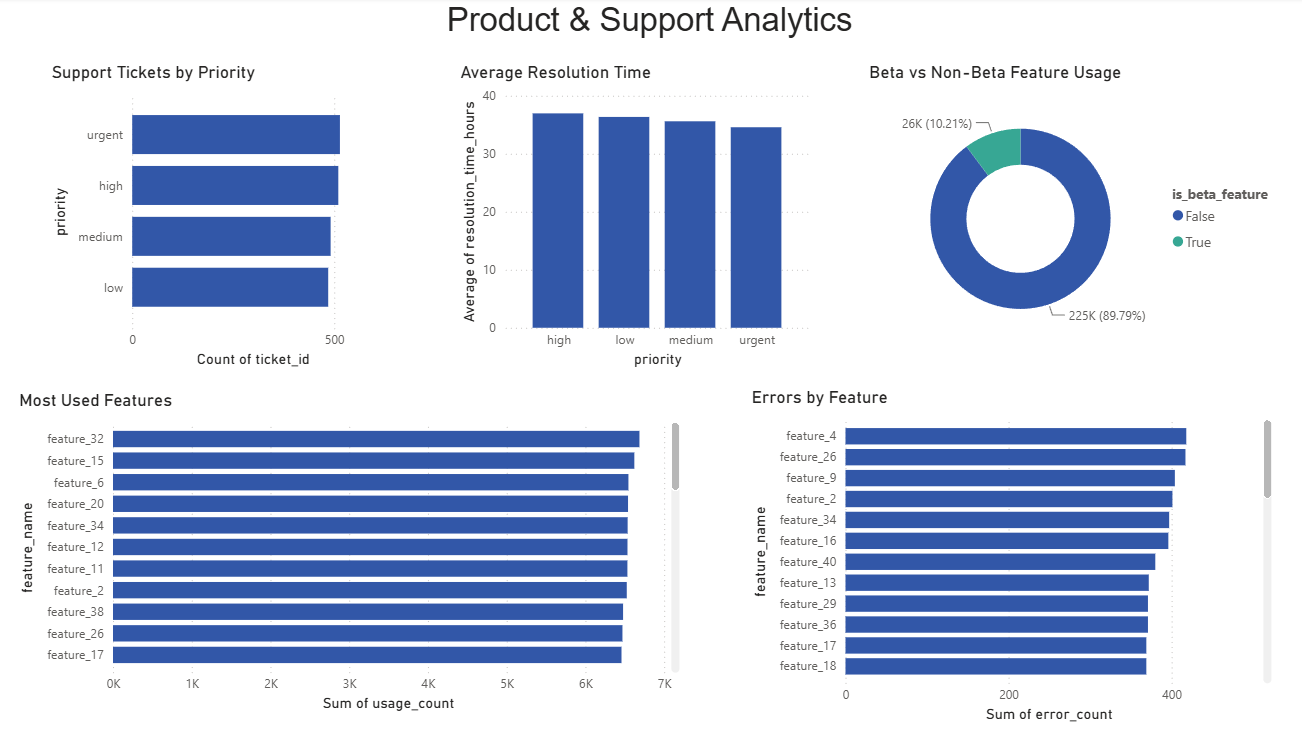

This screenshot's page, from the dashboard's own definition file:
{"tool":"powerbi","page":{"name":"Product & Support Analytics","canvas":[1280,720],"ordinal":2},"visuals":[{"type":"textbox","box":[434.3,0,411.4,58.6],"z":0},{"type":"clusteredBarChart","title":"Support Tickets by Priority","fields":{"Category":["ravenstack_support_tickets.priority"],"Y":["CountNonNull(ravenstack_support_tickets.ticket_id)"]},"box":[48,64,336,304],"z":1000},{"type":"clusteredColumnChart","title":"Average Resolution Time","fields":{"Category":["ravenstack_support_tickets.priority"],"Y":["Avg(ravenstack_support_tickets.resolution_time_hours)"]},"box":[448,64,352,304],"z":2000},{"type":"clusteredBarChart","title":"Most Used Features","fields":{"Category":["ravenstack_feature_usage.feature_name"],"Y":["Sum(ravenstack_feature_usage.usage_count)"]},"box":[16,384,656,320],"z":3000},{"type":"clusteredBarChart","title":"Errors by Feature","fields":{"Category":["ravenstack_feature_usage.feature_name"],"Y":["Sum(ravenstack_feature_usage.error_count)"]},"box":[732.9,381.4,518.6,332.9],"z":4000},{"type":"donutChart","title":"Beta vs Non-Beta Feature Usage","fields":{"Category":["ravenstack_feature_usage.is_beta_feature"],"Y":["Sum(ravenstack_feature_usage.usage_count)"]},"box":[848,64,416,288],"z":5000}]}

Visuals, with their boxes in screenshot pixels (x1, y1, x2, y2), scaled from the page's 1280x720 canvas onto the 1302x731 screenshot:
textbox: region(442, 0, 860, 59)
"Support Tickets by Priority" clusteredBarChart: region(49, 65, 391, 374)
"Average Resolution Time" clusteredColumnChart: region(456, 65, 814, 374)
"Most Used Features" clusteredBarChart: region(16, 390, 684, 715)
"Errors by Feature" clusteredBarChart: region(745, 387, 1273, 725)
"Beta vs Non-Beta Feature Usage" donutChart: region(863, 65, 1286, 357)
